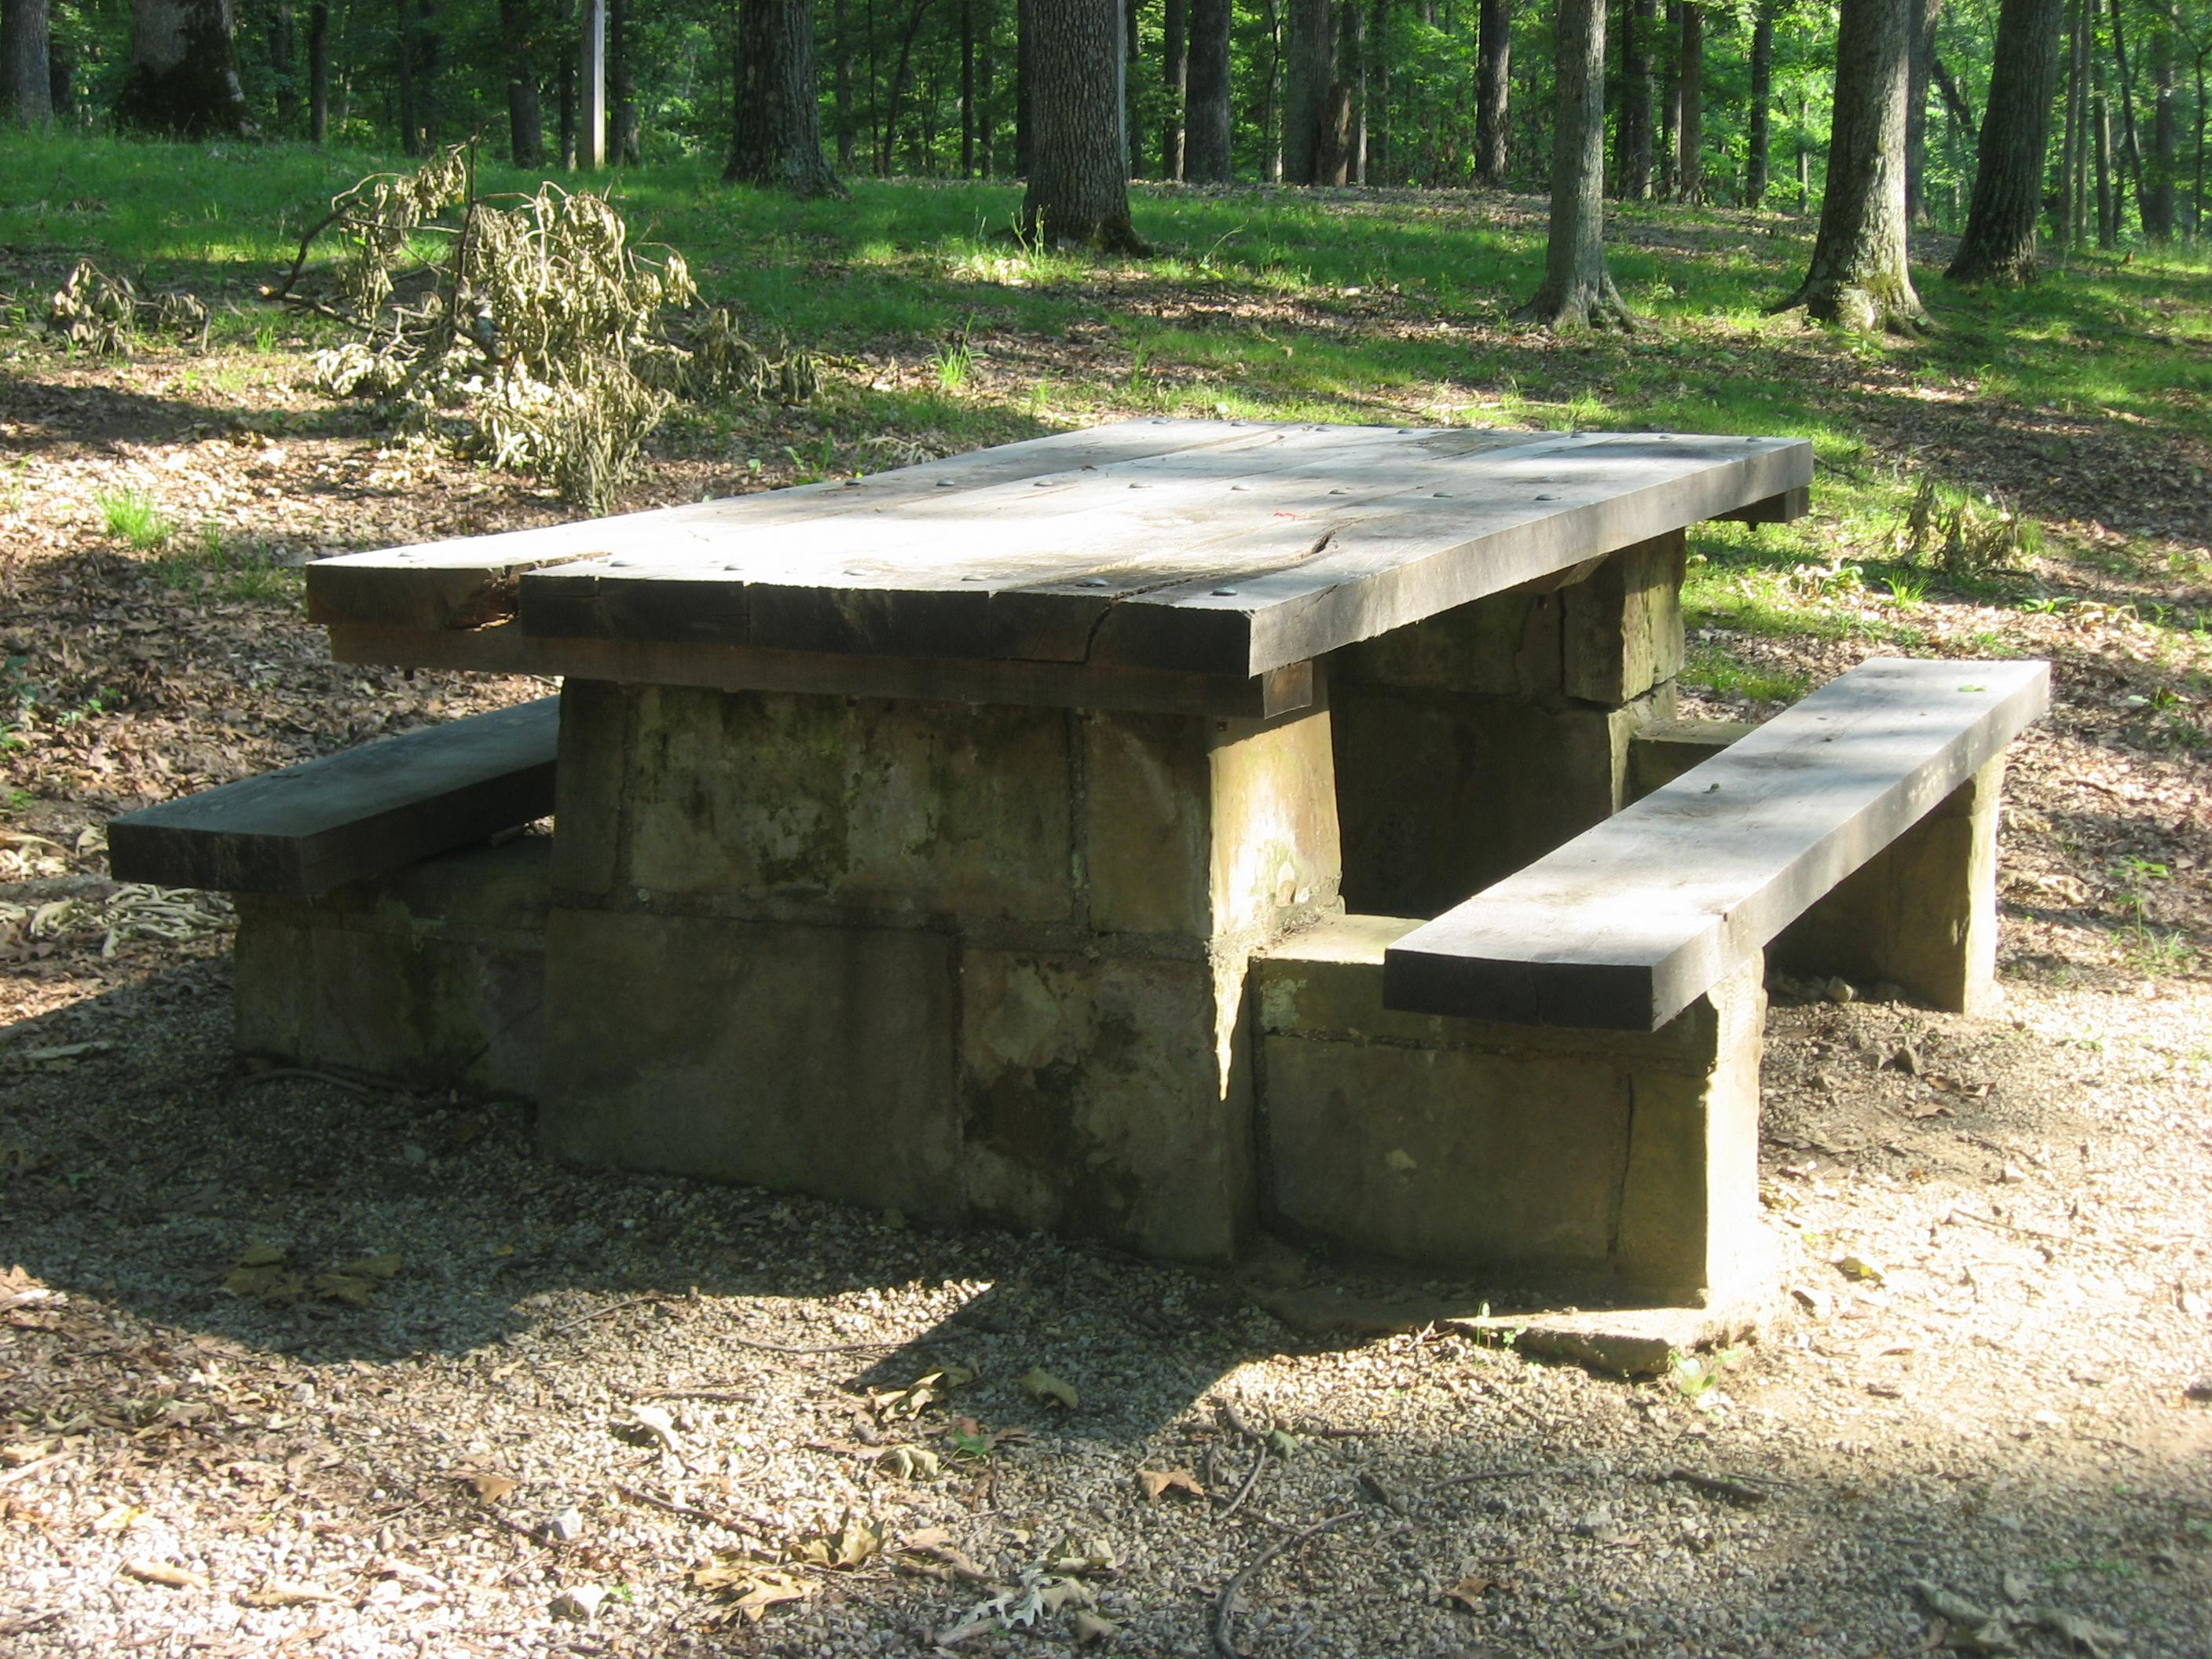Table: (307, 390, 1796, 1236)
